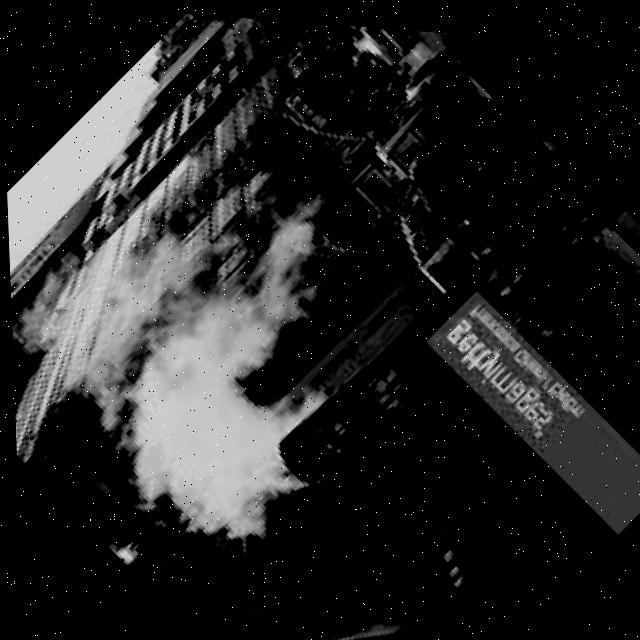Smoke: (5, 140, 440, 587)
